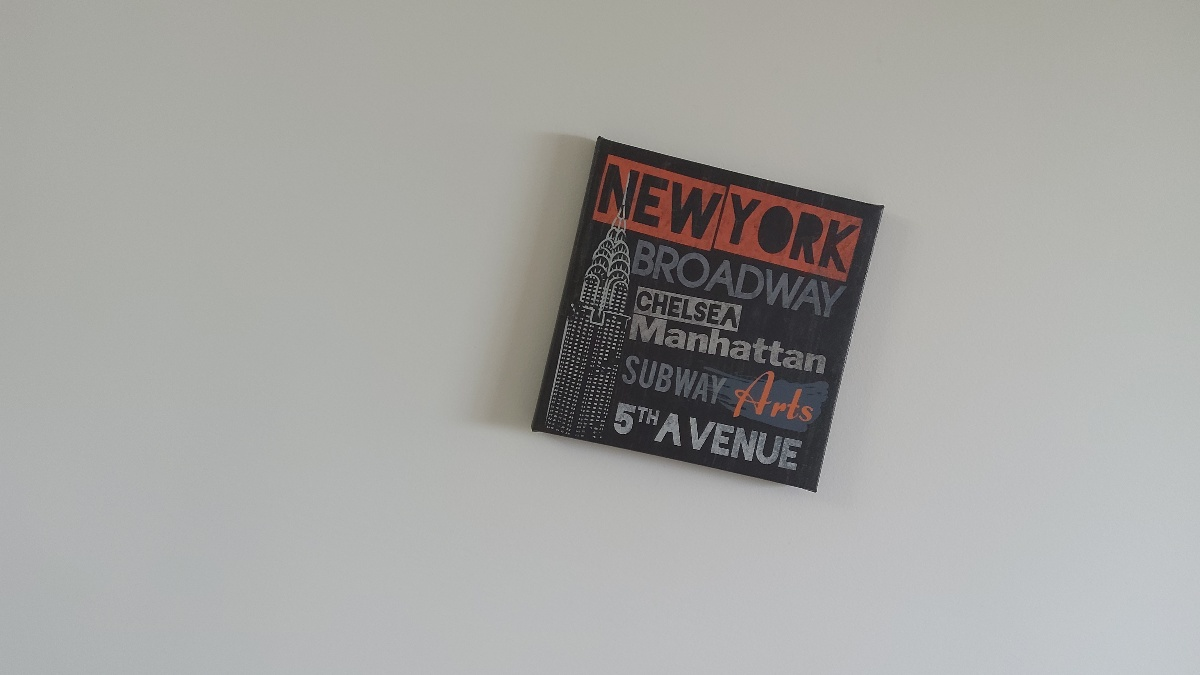poster: (530, 126, 885, 507)
